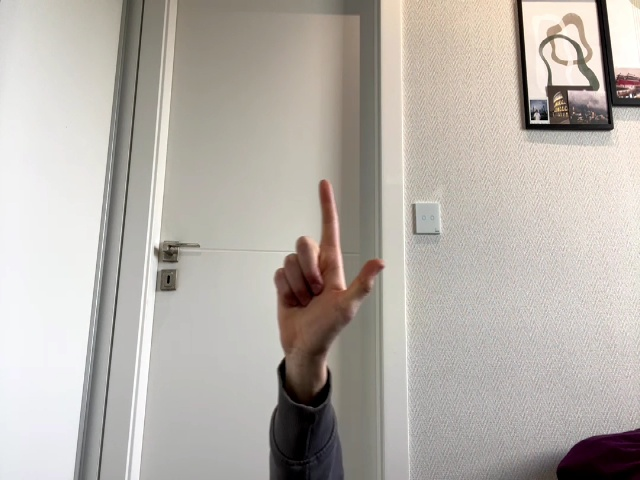L: (275, 179, 385, 372)
